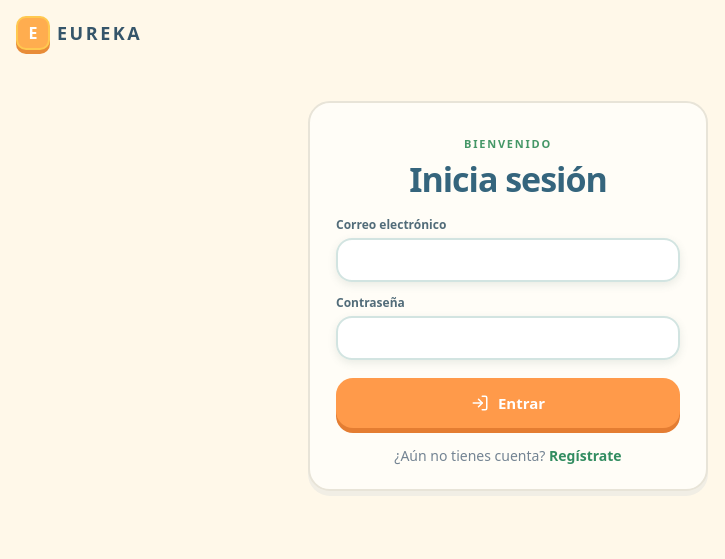
Test case: acceso › explica cuánto esperar cuando el servidor limita los intentos (429)
This screenshot has width=725, height=559.
In the field labelled "Correo electrónico": (508, 260) [336,238,680,282], type "ana@example.com"
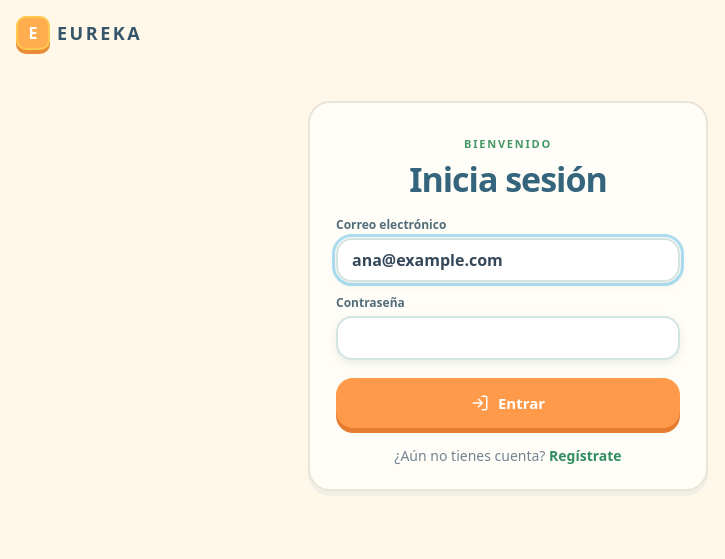
In the password field labelled "Contraseña": (508, 338) [336,316,680,360], type "mala-clave-123"
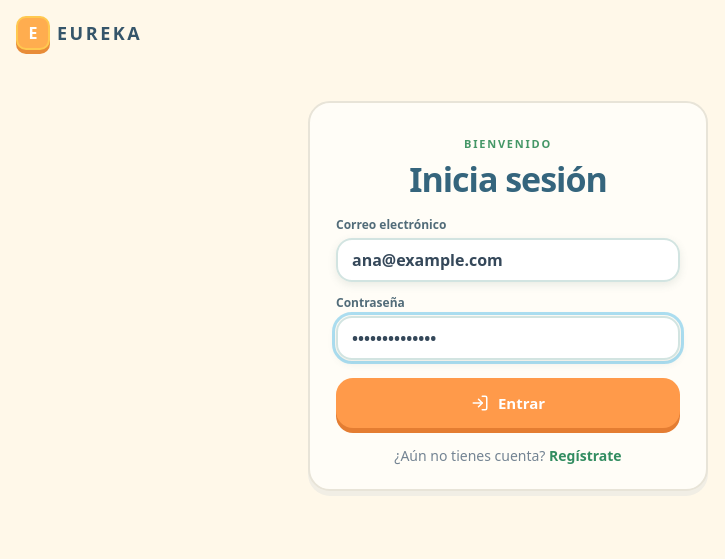
Click the button "Entrar": (508, 403) [336,378,680,428]
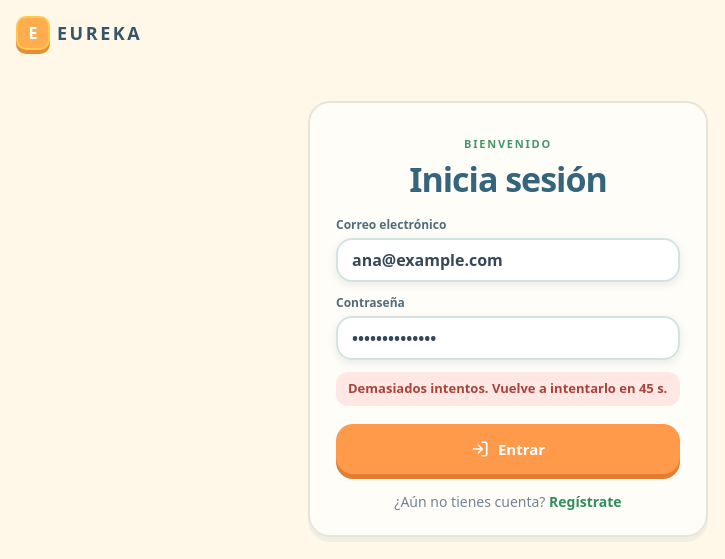
Expected: the message reads "Demasiados intentos. Vuelve a intentarlo en 45 s.", [348,379,667,397]
